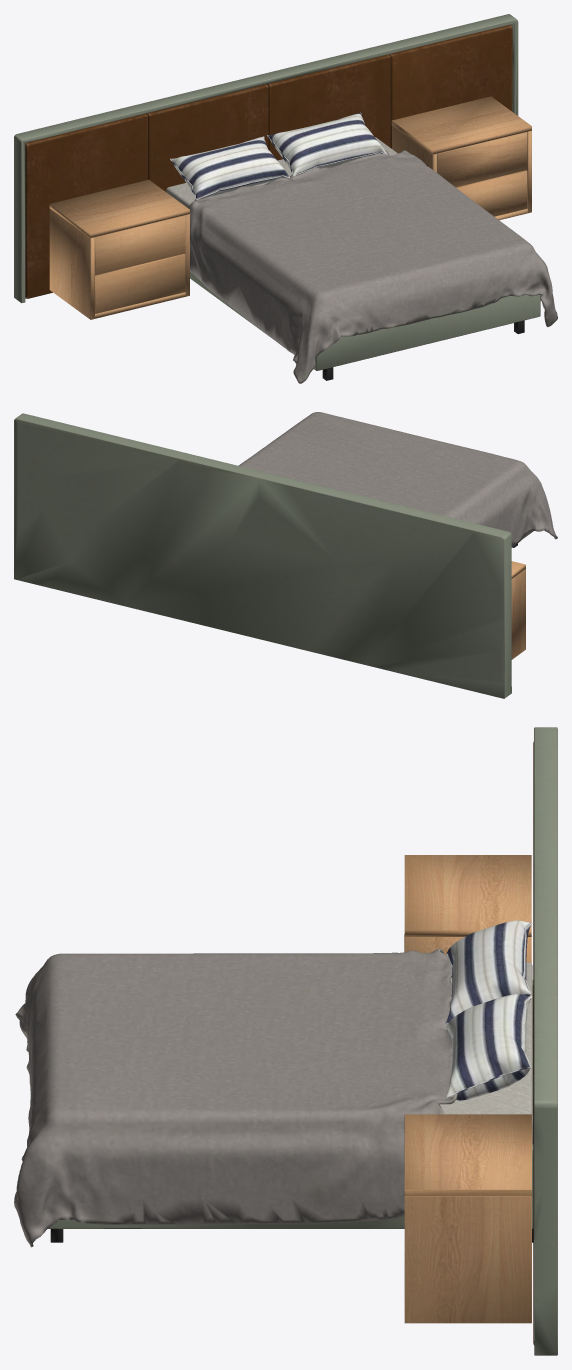
File: bed.glb
The picture shows the model from 3 angles, top to bottom: view 1: azimuth 30°, elevation 25°; view 2: azimuth 150°, elevation 25°; view 3: azimuth 270°, elevation 25°; orthographic projection. The views are drawn at different scales.
Parts seen in each view (by area): view 1: Bed, BedSideTable; view 2: Bed, BedSideTable; view 3: Bed, BedSideTable.
Part boxes in pixels (x1,y1,x2,y2): Bed: [14, 14, 557, 383]; BedSideTable: [49, 96, 531, 319]; Bed: [14, 412, 557, 698]; BedSideTable: [511, 561, 525, 659]; Bed: [14, 727, 557, 1355]; BedSideTable: [404, 855, 531, 1323].
Size of the model in its own units: 3.5 by 1.1 by 2.14.
Materials: 2 (2 with a texture image).
